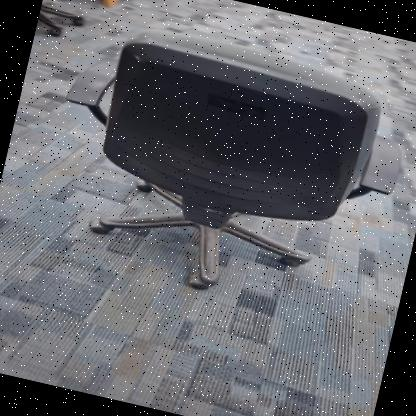chair: (23, 0, 416, 334)
